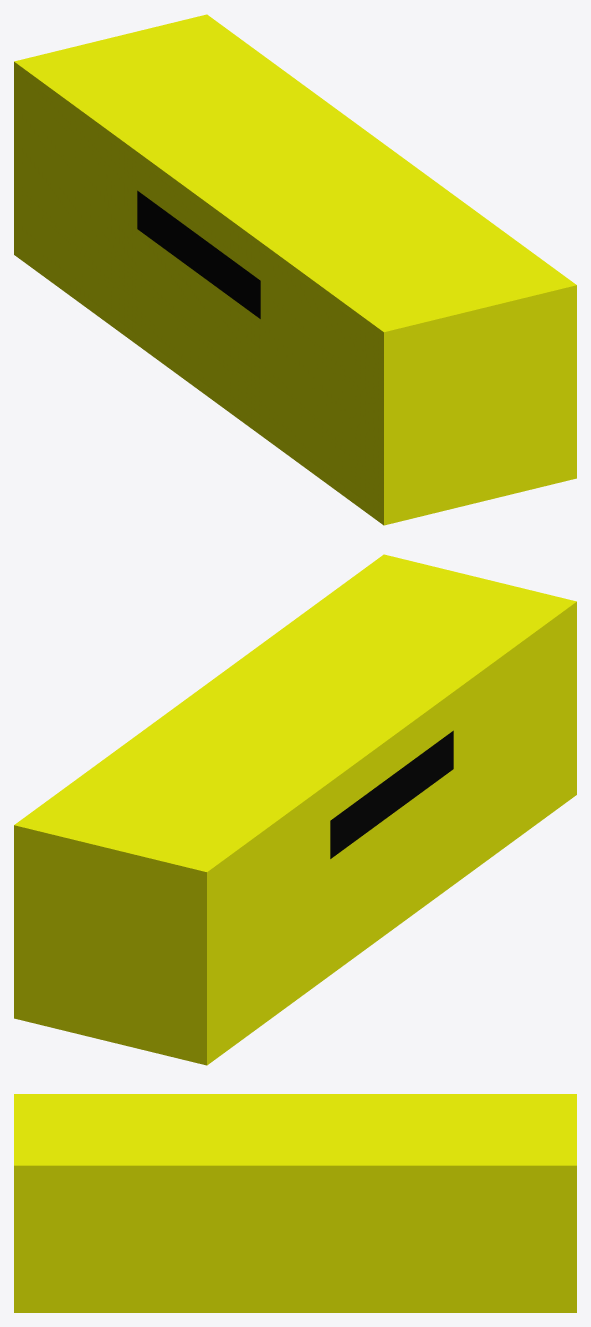
The model's file is SpaceKey.fbx.
3 renders of one model, top to bottom at view 1: azimuth 30°, elevation 25°; view 2: azimuth 150°, elevation 25°; view 3: azimuth 270°, elevation 25°, orthographic. The views are drawn at different scales.
Parts seen in each view (by area): view 1: Cube.001; view 2: Cube.001; view 3: Cube.001.
Boxes of the visible parts, x1,y1,x2,y2 form: Cube.001: (14, 14, 576, 525); Cube.001: (14, 554, 576, 1065); Cube.001: (14, 1094, 576, 1312).
Bounding box in the file's own units: 8.01 × 7.66 × 26.59.
